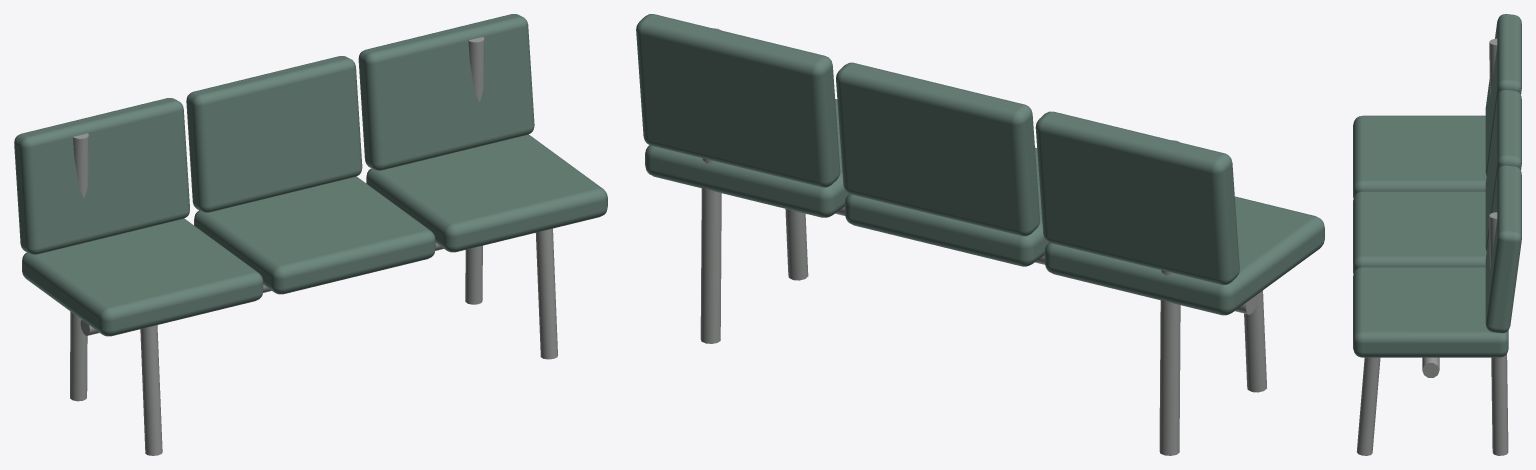
The model's file is bench.glb.
3 renders of one model, left to right at view 1: azimuth 30°, elevation 25°; view 2: azimuth 150°, elevation 25°; view 3: azimuth 270°, elevation 25°, orthographic. The views are drawn at different scales.
Parts seen in each view (by area): view 1: Separate back cushion (×3), Separate seat cushion (×3), Front leg (×2), Back leg (×2); view 2: Separate back cushion (×3), Separate seat cushion (×3), Back leg (×2), Front leg (×2); view 3: Separate seat cushion (×3), Separate back cushion (×3), Back leg (×2), Front leg, Cross support.
Part boxes in pixels (x1,y1,x2,y2): Separate back cushion (×3): (14, 14, 534, 254); Separate seat cushion (×3): (22, 134, 607, 336); Front leg (×2): (140, 228, 557, 455); Back leg (×2): (70, 37, 484, 401); Separate back cushion (×3): (636, 14, 1239, 284); Separate seat cushion (×3): (645, 99, 1324, 315); Back leg (×2): (700, 28, 1180, 455); Front leg (×2): (785, 209, 1266, 392); Separate seat cushion (×3): (1353, 115, 1508, 357); Separate back cushion (×3): (1485, 14, 1521, 333); Back leg (×2): (1489, 38, 1508, 455); Front leg: (1356, 357, 1380, 455); Cross support: (1422, 357, 1439, 377).
Bounding box in the file's own units: 1.59 × 0.8121 × 0.5096.
